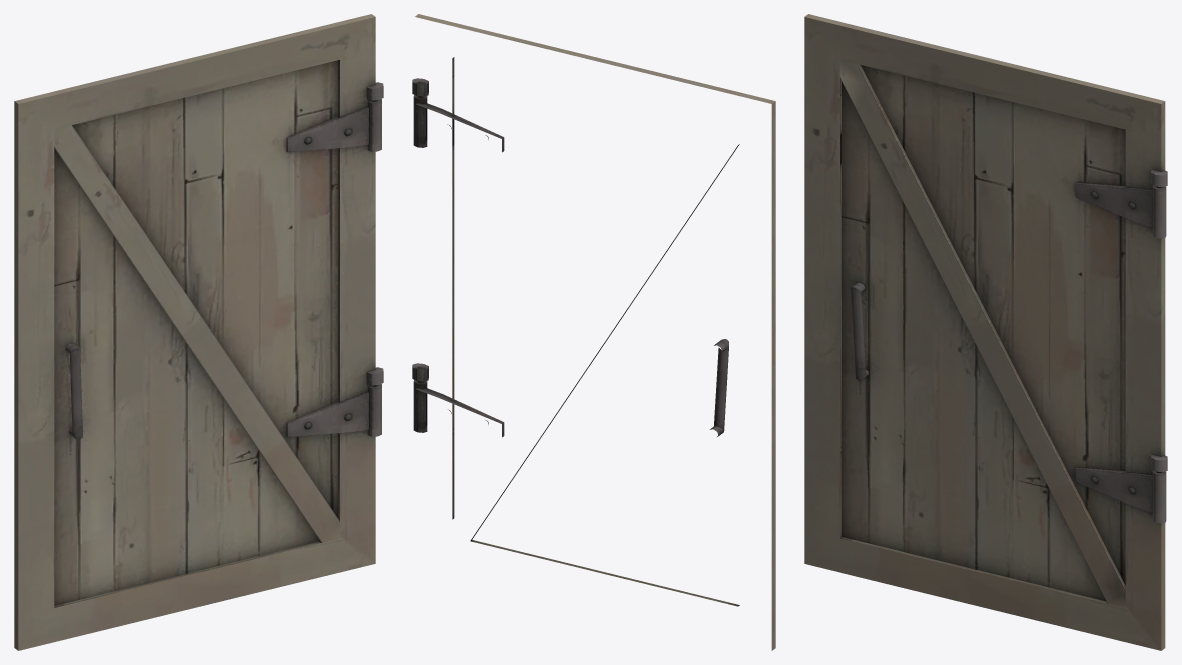
3 renders of one model, left to right at view 1: azimuth 30°, elevation 25°; view 2: azimuth 150°, elevation 25°; view 3: azimuth 330°, elevation 25°, orthographic.
Parts seen in each view (by area): view 1: body0_model0_lod0_mesh0; view 2: body0_model0_lod0_mesh0; view 3: body0_model0_lod0_mesh0.
Boxes of the visible parts, bbox=[...] form: body0_model0_lod0_mesh0: bbox=[14, 14, 383, 650]; body0_model0_lod0_mesh0: bbox=[412, 14, 775, 650]; body0_model0_lod0_mesh0: bbox=[804, 14, 1167, 650].
Size of the model in its own units: 106 by 152 by 4.55.
Materials: 1 (1 with a texture image).
